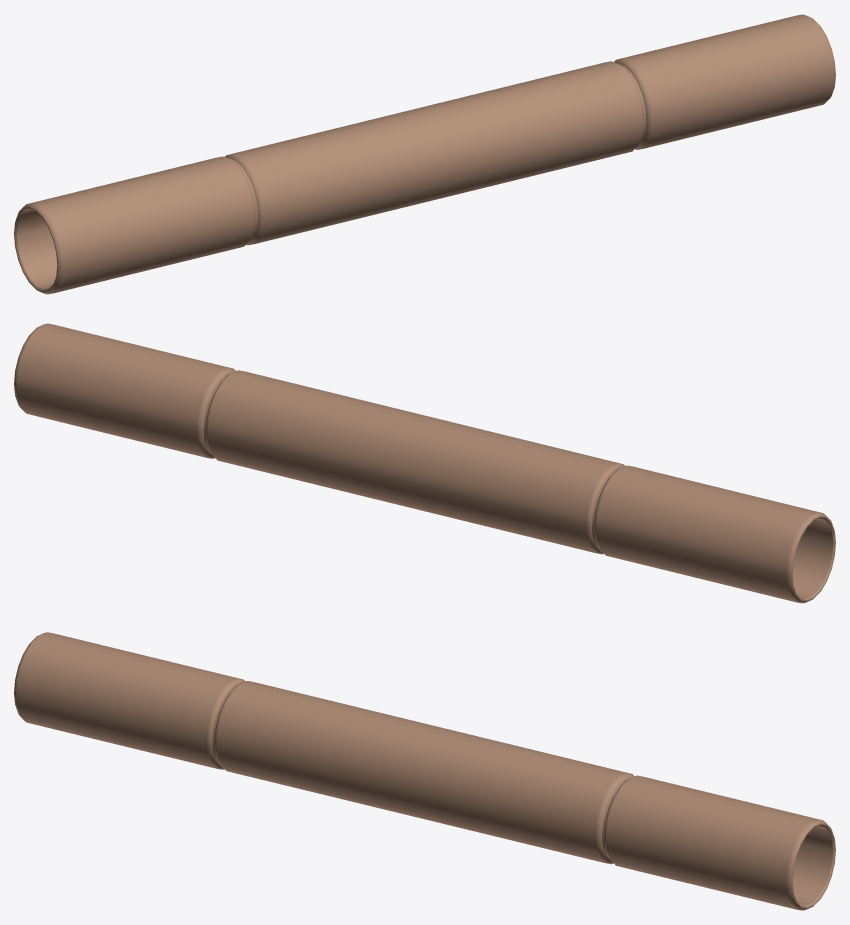
The model's file is Dart_Tube.fbx.
3 views of the same model, one above another, from view 1: azimuth 30°, elevation 25°; view 2: azimuth 150°, elevation 25°; view 3: azimuth 330°, elevation 25° (orthographic).
Visible parts, largest first — view 1: pCylinder1; view 2: pCylinder1; view 3: pCylinder1.
Part boxes in pixels (left/top/right/bottom): pCylinder1: left=14, top=14, right=835, bottom=294; pCylinder1: left=14, top=323, right=835, bottom=603; pCylinder1: left=14, top=632, right=835, bottom=910.
Size of the model in its own units: 4.03 by 0.4247 by 0.4208.
